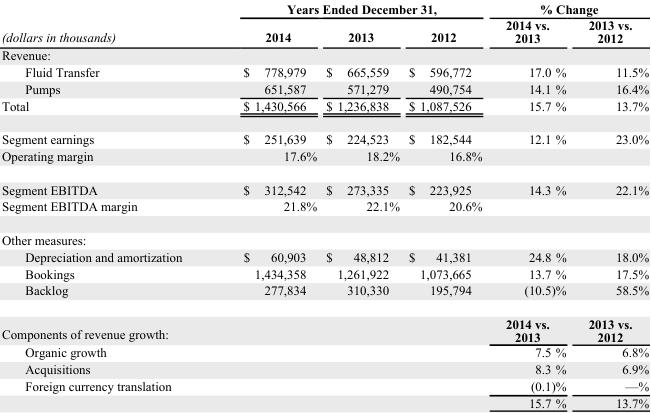table: (1, 1, 648, 409)
table column: (1, 1, 212, 409), (212, 1, 320, 409), (403, 1, 493, 409), (320, 1, 403, 409), (493, 1, 576, 409), (576, 1, 648, 409)
table column header: (1, 1, 648, 46)
table projected row header: (1, 222, 648, 248), (1, 46, 648, 63)
table row: (1, 306, 648, 344), (1, 16, 648, 46), (1, 96, 648, 122), (1, 222, 648, 248), (1, 122, 648, 147), (1, 147, 648, 172), (1, 172, 648, 197), (1, 197, 648, 222), (1, 281, 648, 306), (1, 46, 648, 63), (1, 63, 648, 80), (1, 264, 648, 281), (1, 360, 648, 377), (1, 377, 648, 394), (1, 80, 648, 96), (1, 248, 648, 264), (1, 344, 648, 360), (1, 1, 648, 16), (1, 394, 648, 409)
table spanning cell: (1, 1, 212, 46), (212, 1, 493, 16), (493, 1, 648, 16)
